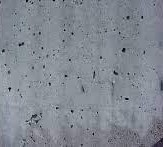Spalling: (1, 1, 146, 147)
